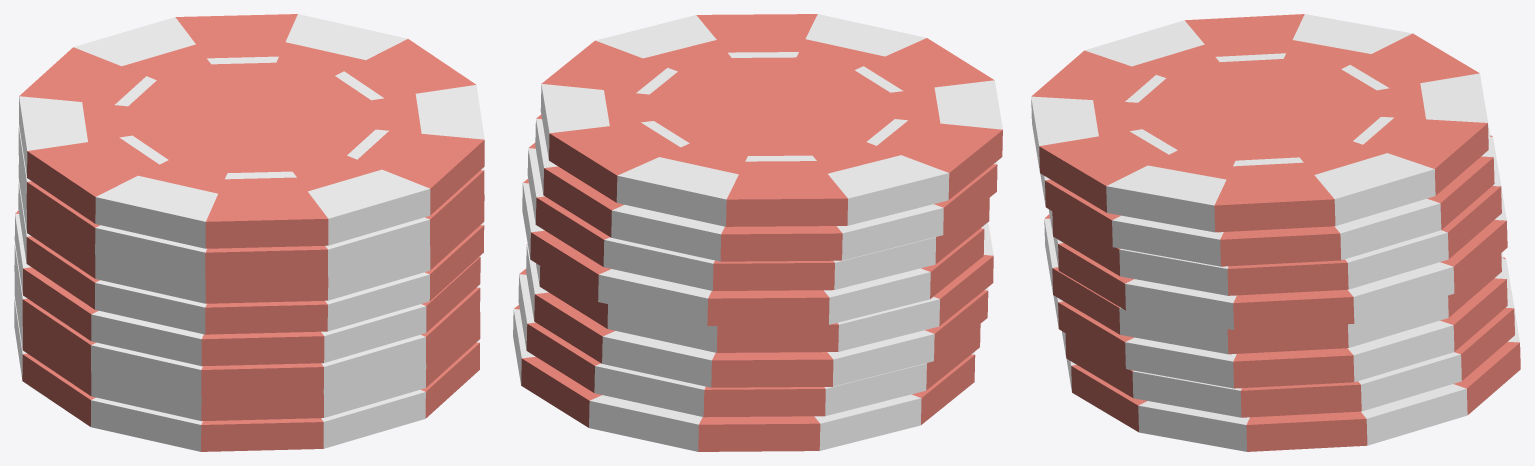
Rendered from chips2.fbx.
3 renders of one model, left to right at view 1: azimuth 30°, elevation 25°; view 2: azimuth 150°, elevation 25°; view 3: azimuth 270°, elevation 25°, orthographic.
Visible parts, largest first — view 1: model; view 2: model; view 3: model.
Part boxes in pixels (<box>): model: <box>14,14,484,451</box>; model: <box>513,14,1002,451</box>; model: <box>1031,14,1520,451</box>.
Bounding box in the file's own units: 63.63 × 37.67 × 66.21.
